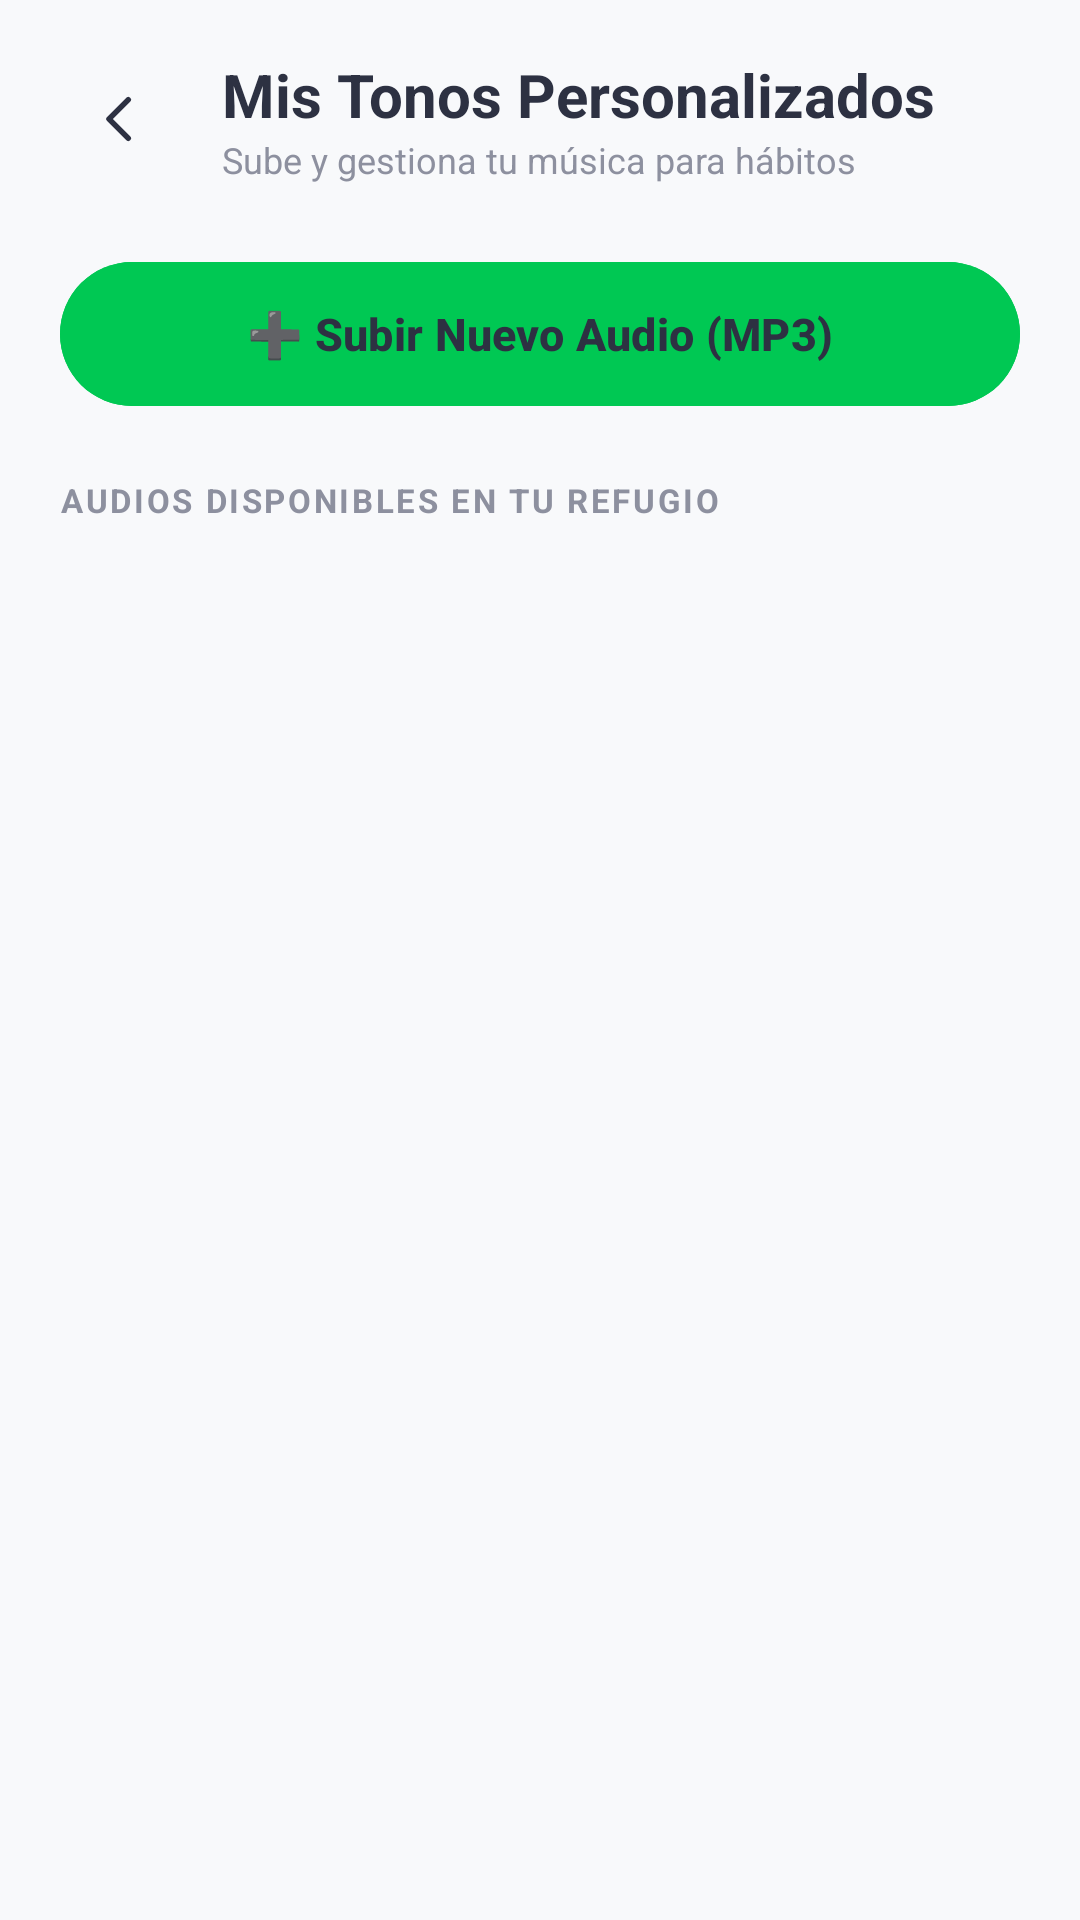

Point at icon controls on the screen. Image size 1080px×1920px, points as point (x, y).
Volver: point (119, 119)
